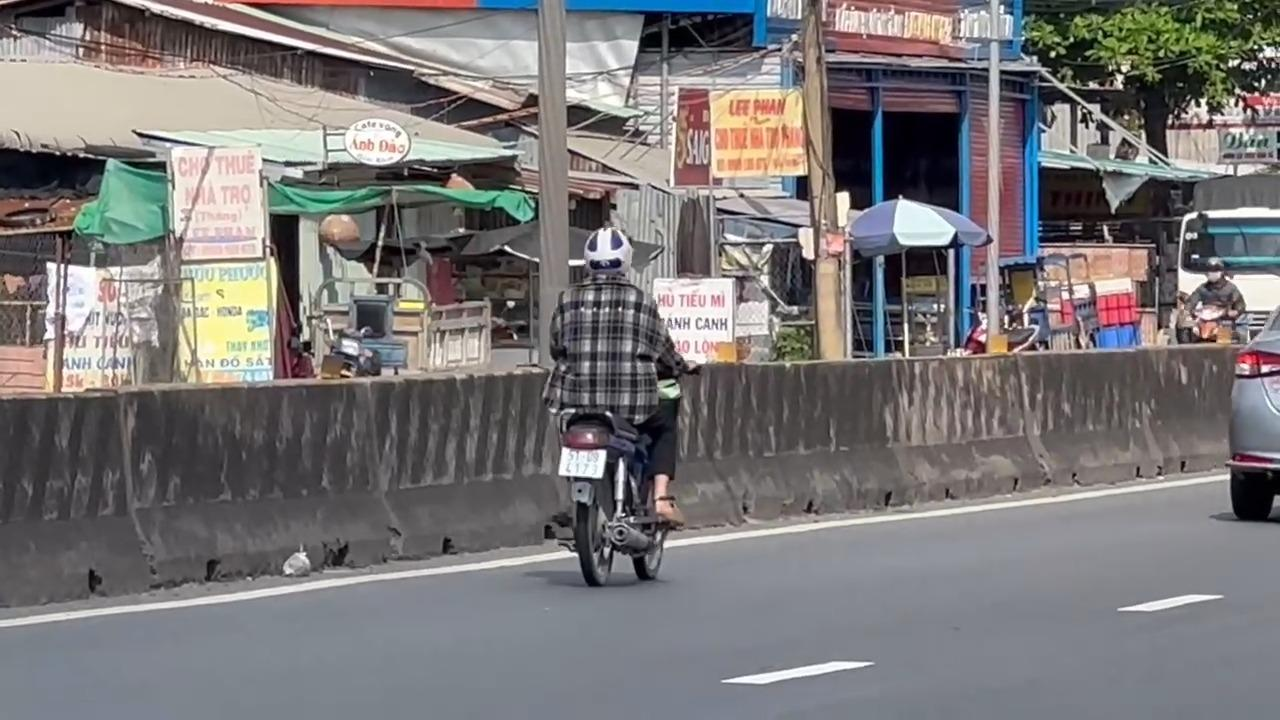bien_so: (557, 445, 606, 479)
